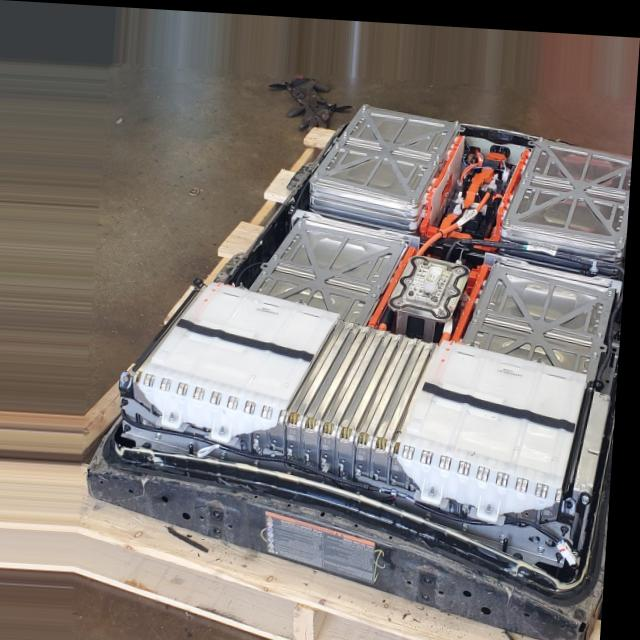Battery Module: (413, 343, 582, 480), (150, 285, 328, 410), (479, 260, 606, 359), (266, 218, 397, 312), (517, 136, 632, 236), (324, 102, 446, 196)
Bolt: (584, 487, 598, 503), (502, 526, 516, 538), (223, 446, 237, 458), (465, 517, 477, 529), (157, 430, 170, 441), (542, 539, 554, 550), (191, 437, 203, 448), (594, 341, 606, 352), (434, 146, 447, 156), (332, 137, 345, 147), (608, 282, 619, 293), (377, 277, 388, 288), (452, 112, 463, 123), (571, 493, 581, 505), (561, 547, 571, 559), (342, 123, 354, 133), (362, 98, 371, 111), (409, 191, 419, 202), (272, 251, 283, 261), (430, 509, 442, 518), (472, 313, 484, 322), (315, 165, 324, 177), (522, 170, 531, 182), (402, 233, 411, 244), (537, 130, 548, 139), (598, 323, 608, 332), (476, 302, 486, 311), (372, 288, 382, 297), (300, 214, 309, 224), (618, 228, 628, 237), (506, 211, 516, 220), (263, 266, 273, 274), (496, 255, 505, 263), (432, 153, 440, 162), (524, 165, 534, 170)
Bus-bar: (480, 143, 530, 243), (421, 132, 466, 228), (372, 240, 418, 321), (455, 259, 493, 336), (464, 161, 494, 201), (443, 205, 459, 223), (450, 226, 474, 233)
Cable: (419, 186, 493, 250)
Nut: (488, 497, 503, 511), (125, 421, 138, 437), (221, 420, 234, 436), (563, 518, 580, 529), (298, 290, 311, 304), (172, 409, 185, 422), (120, 395, 134, 407), (434, 479, 445, 493), (540, 347, 552, 358), (470, 334, 484, 343), (239, 277, 250, 287)
